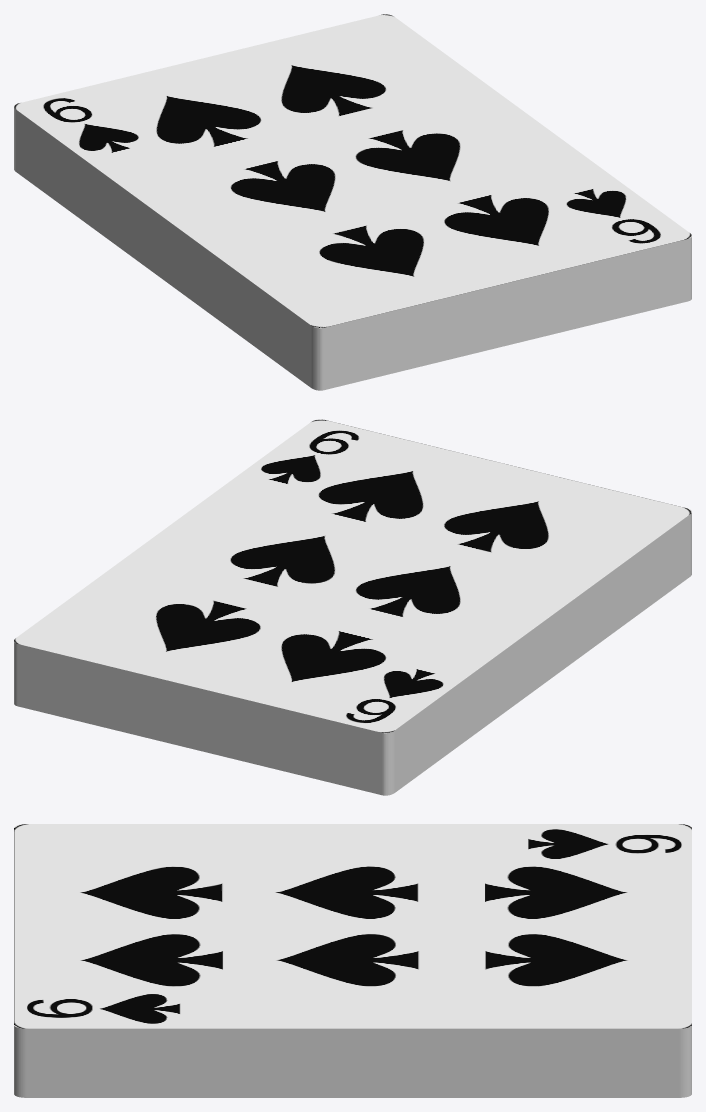
The model's file is deck.fbx.
The picture shows the model from 3 angles, top to bottom: view 1: azimuth 30°, elevation 25°; view 2: azimuth 150°, elevation 25°; view 3: azimuth 270°, elevation 25°; orthographic projection. The views are drawn at different scales.
Parts seen in each view (by area): view 1: Cube; view 2: Cube; view 3: Cube.
Boxes of the visible parts, bbox=[...] form: Cube: bbox=[14, 14, 691, 390]; Cube: bbox=[14, 419, 691, 795]; Cube: bbox=[14, 824, 691, 1097].
Bounding box in the file's own units: 127 × 20 × 178.
3 materials, 1 textured.
